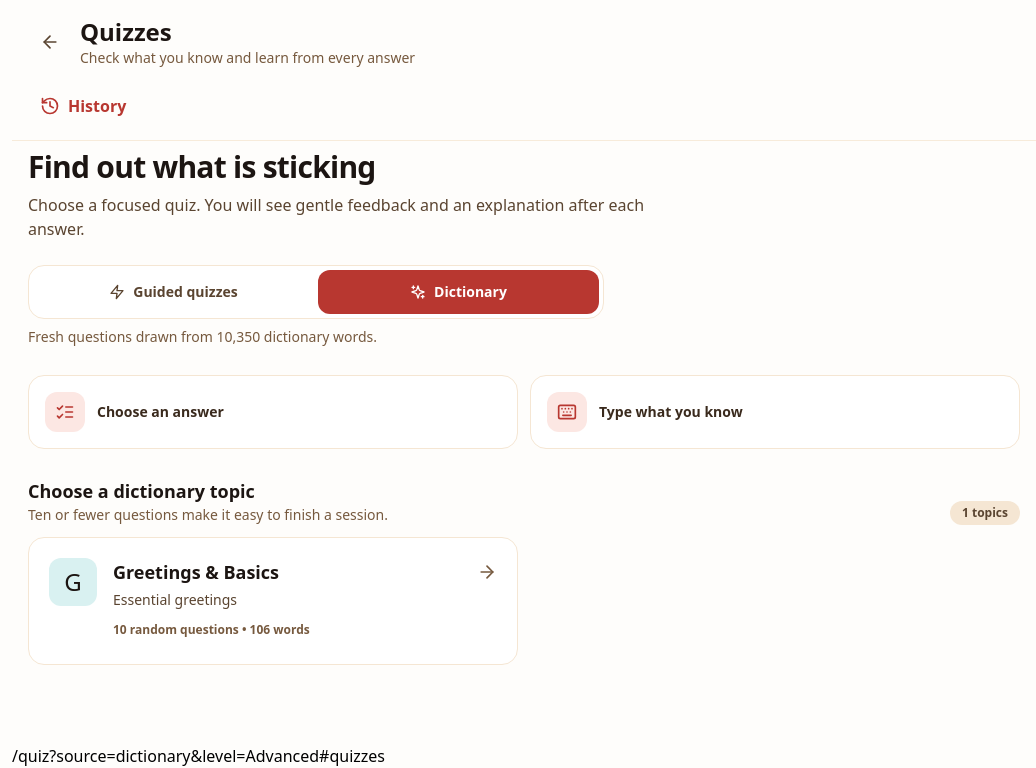
practice entry pages › restores quiz source and level together
(page scrolled)
Click the button "Guided quizzes" at (174, 292), box [33,270,314,314]
(page scrolled)
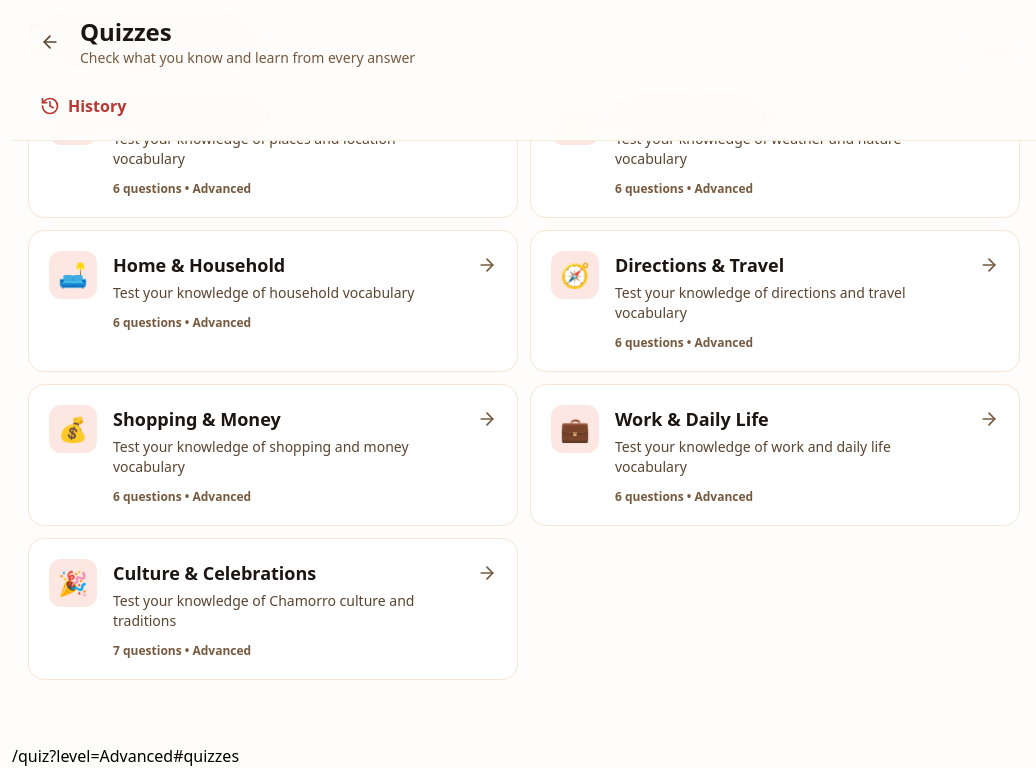
expect the text with test id "location" reads "/quiz?level=Advanced#quizzes": met, box [12,745,239,767]
